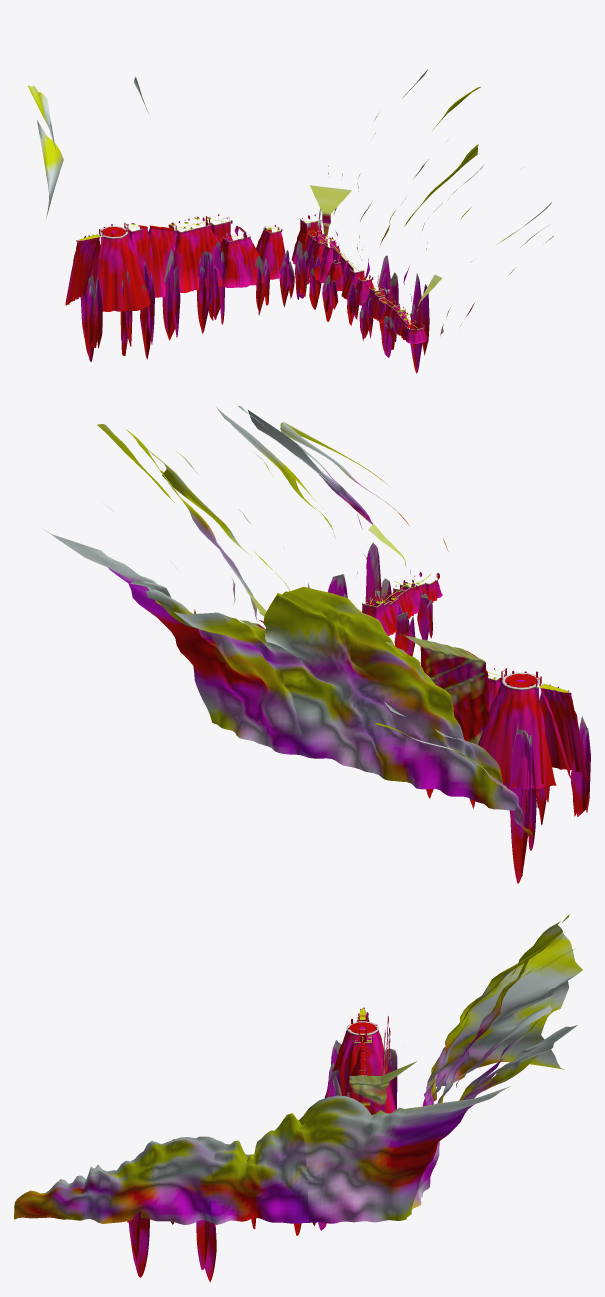
File: terrain.glb
The picture shows the model from 3 angles, top to bottom: view 1: azimuth 30°, elevation 25°; view 2: azimuth 150°, elevation 25°; view 3: azimuth 270°, elevation 25°; orthographic projection. The views are drawn at different scales.
Visible parts, largest first — view 1: rock_a12, rock_a10, rock_a11, rock_a13, rock_a1, rock_a9, rock_a7, rock_a3, rock_a4, rock_a8, rock_a5, rock_a2 (+4 smaller); view 2: rock_m5, rock_m4, rock_m6, rock_a13, rock_a12, rock_c11, rock_a1, rock_m0, rock_m2, rock_a2, rock_m1, rock_m7; view 3: rock_m3, rock_m2, rock_m1, rock_m6, rock_m7, rock_m0, rock_m4, rock_m5, rock_a12, rock_c10, rock_a11, rock_a3 (+2 smaller).
Boxes of the visible parts, bbox=[...] form: rock_a12: bbox=[83, 231, 154, 359]; rock_a10: bbox=[168, 216, 222, 333]; rock_a11: bbox=[125, 223, 180, 340]; rock_a13: bbox=[65, 234, 103, 361]; rock_a1: bbox=[383, 273, 429, 373]; rock_a9: bbox=[205, 214, 249, 324]; rock_a7: bbox=[256, 225, 306, 307]; rock_a3: bbox=[341, 255, 398, 350]; rock_a4: bbox=[318, 242, 355, 321]; rock_a8: bbox=[232, 225, 269, 315]; rock_a5: bbox=[298, 233, 336, 309]; rock_a2: bbox=[359, 285, 396, 340]; rock_m5: bbox=[239, 591, 406, 781]; rock_m4: bbox=[42, 528, 304, 756]; rock_m6: bbox=[289, 586, 507, 809]; rock_a13: bbox=[510, 683, 590, 883]; rock_a12: bbox=[478, 679, 571, 824]; rock_c11: bbox=[404, 635, 489, 744]; rock_a1: bbox=[365, 542, 442, 640]; rock_m0: bbox=[238, 405, 448, 551]; rock_m2: bbox=[125, 428, 289, 621]; rock_a2: bbox=[362, 594, 415, 656]; rock_m1: bbox=[216, 407, 366, 587]; rock_m7: bbox=[375, 723, 533, 835]; rock_m3: bbox=[297, 1086, 510, 1223]; rock_m2: bbox=[211, 1113, 308, 1224]; rock_m1: bbox=[102, 1136, 216, 1224]; rock_m6: bbox=[422, 914, 582, 1106]; rock_m7: bbox=[436, 981, 568, 1086]; rock_m0: bbox=[14, 1165, 111, 1223]; rock_m4: bbox=[407, 1025, 577, 1217]; rock_m5: bbox=[426, 948, 575, 1105]; rock_a12: bbox=[325, 1026, 395, 1113]; rock_c10: bbox=[349, 1056, 416, 1114]; rock_a11: bbox=[331, 1036, 379, 1096]; rock_a3: bbox=[196, 1215, 217, 1282].
Size of the model in its own units: 577 by 371 by 645.
